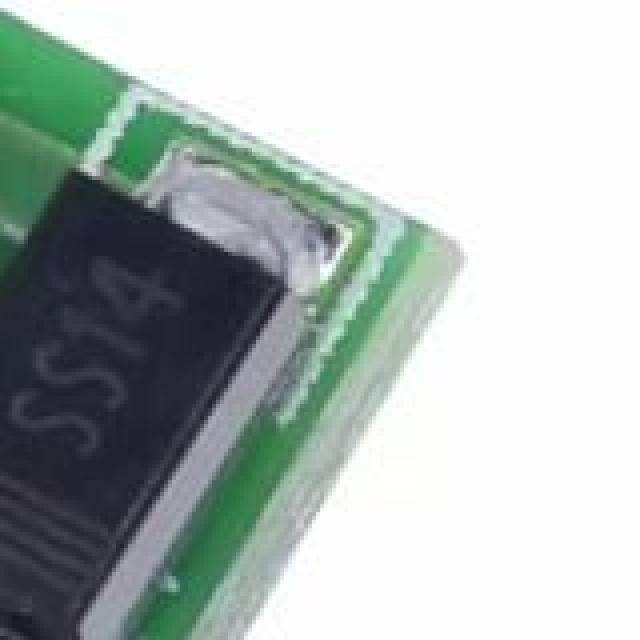diode: (0, 144, 357, 640)
inductor: (0, 25, 37, 109)
